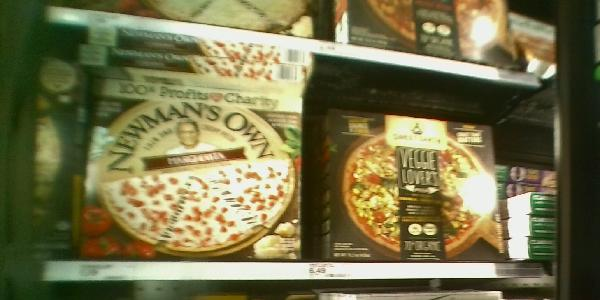pizza: (79, 96, 302, 263), (324, 109, 505, 261)
pizza1: (89, 25, 312, 69), (82, 45, 307, 87), (85, 80, 301, 112), (84, 67, 304, 98), (497, 181, 559, 201), (509, 216, 560, 240), (497, 165, 558, 184), (509, 239, 559, 261), (511, 194, 555, 216)
